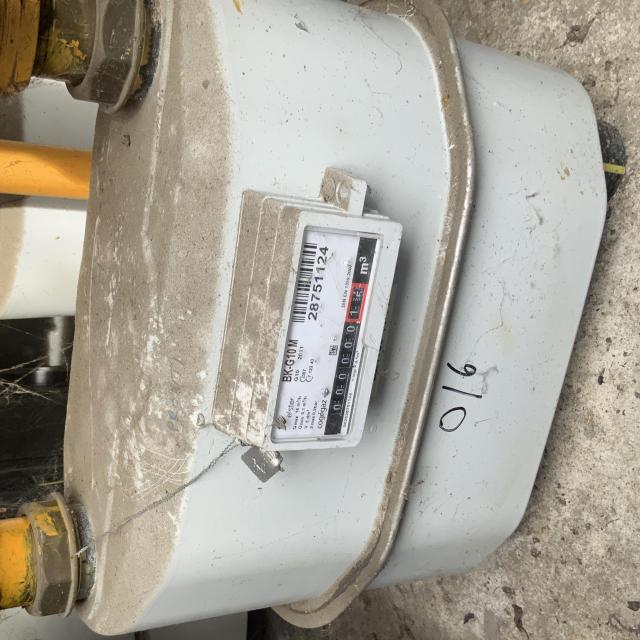gaz_meter: (273, 226, 382, 440)
indication: (326, 284, 370, 423)
